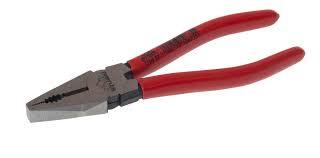pliers: (24, 7, 305, 123)
